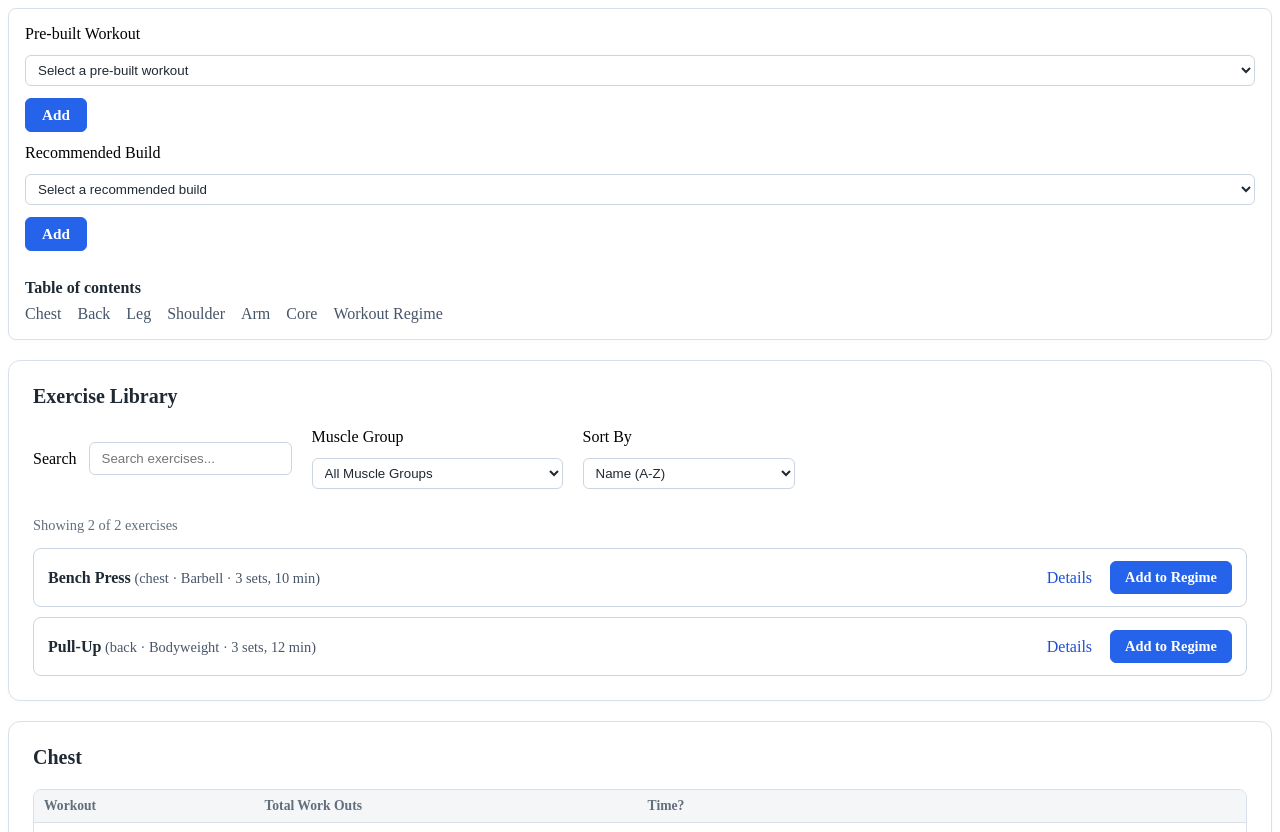
Test case: Workout Planner › adds an exercise to the regime and persists it in localStorage
Expected: the text "Bench Press" is shown, [48,569,131,586]
Click the button "Add to Regime" in the row of "Bench Press".
click(1171, 578)  # box [1110,561,1232,594]
(page scrolled)
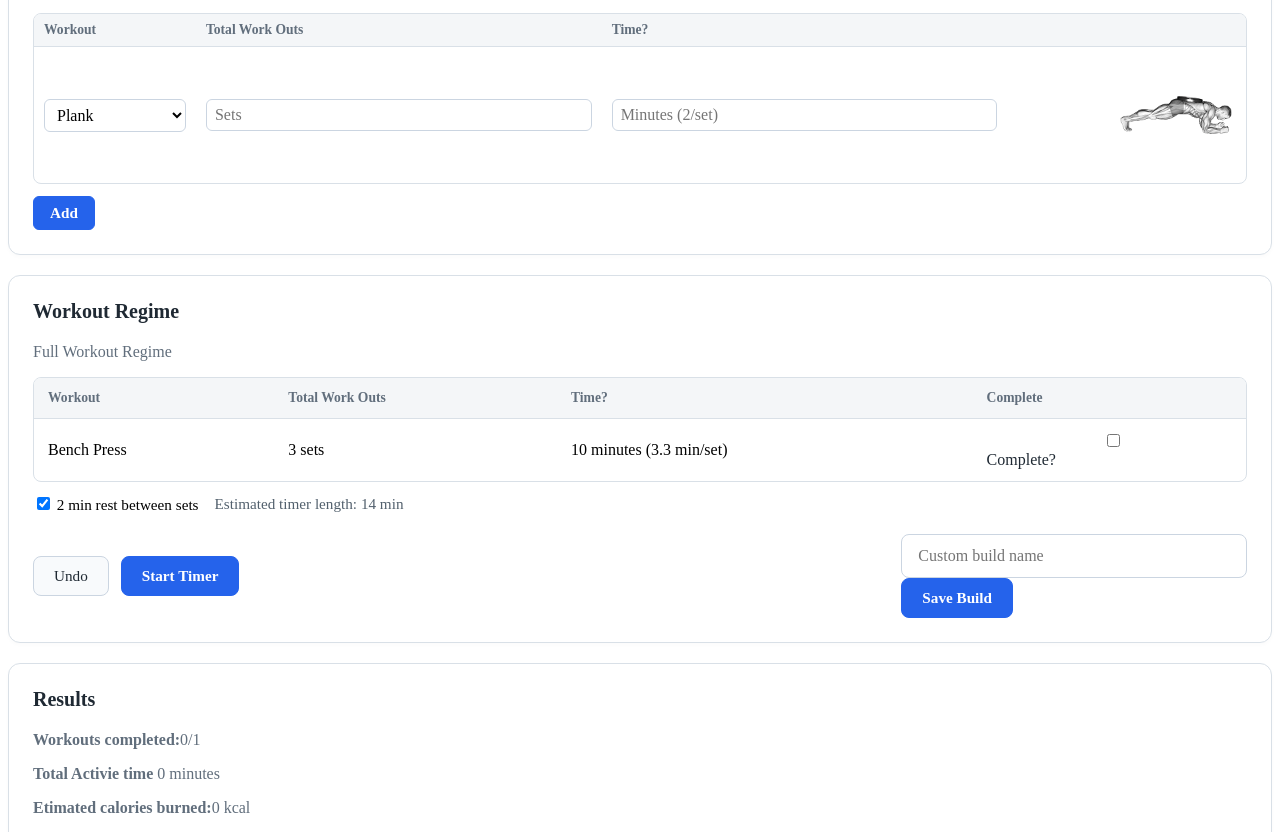
Expected: the text "Bench Press" is shown, [34,419,274,481]
